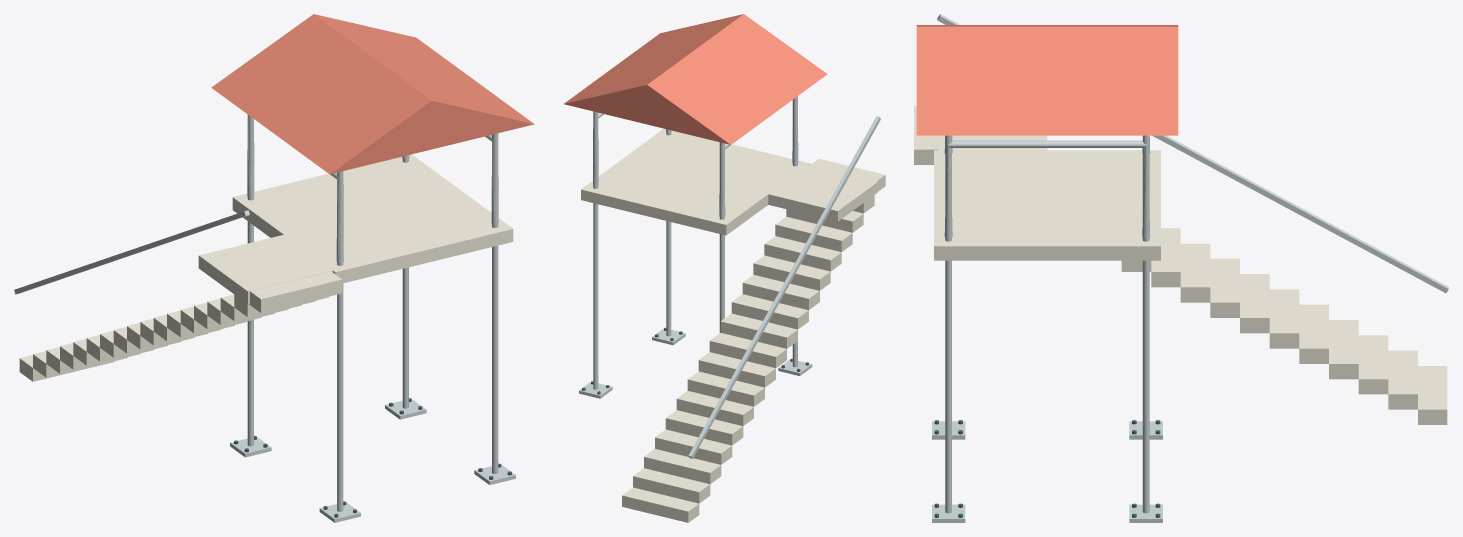
Rendered from waterpark-and-pool-operations-waterpark-and-pool-opera-06bc6e0f__28960.glb.
3 views of the same model, side by side, from view 1: azimuth 30°, elevation 25°; view 2: azimuth 150°, elevation 25°; view 3: azimuth 270°, elevation 25° (orthographic). The views are drawn at different scales.
Visible parts, largest first — view 1: waterpark-and-pool-operations-access-stair-tower; view 2: waterpark-and-pool-operations-access-stair-tower; view 3: waterpark-and-pool-operations-access-stair-tower.
Part boxes in pixels (box(x1,y1,x2,y2)): waterpark-and-pool-operations-access-stair-tower: box(14, 14, 534, 522); waterpark-and-pool-operations-access-stair-tower: box(564, 14, 885, 522); waterpark-and-pool-operations-access-stair-tower: box(914, 14, 1448, 522).
Bounding box in the file's own units: 3.61 × 5 × 5.41.
